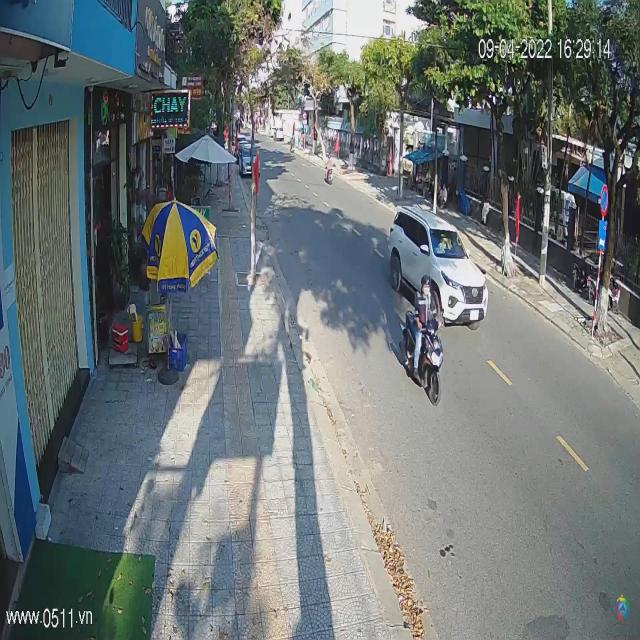car: (388, 206, 490, 329)
motorcycle: (394, 300, 446, 410)
